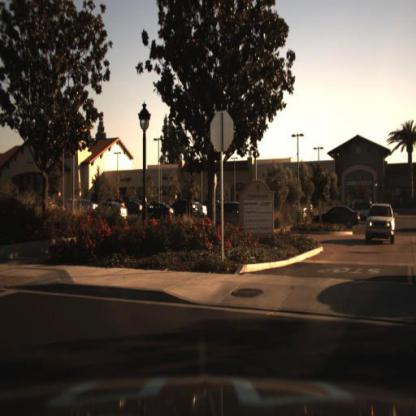car: (198, 195, 256, 229), (366, 203, 396, 247), (311, 205, 362, 230), (132, 199, 178, 222), (170, 198, 204, 226), (189, 196, 209, 221)
